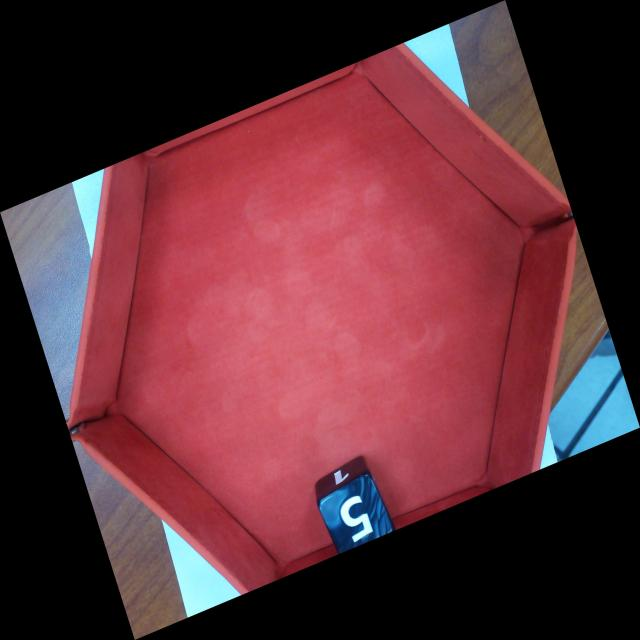dice: (320, 473, 396, 555)
